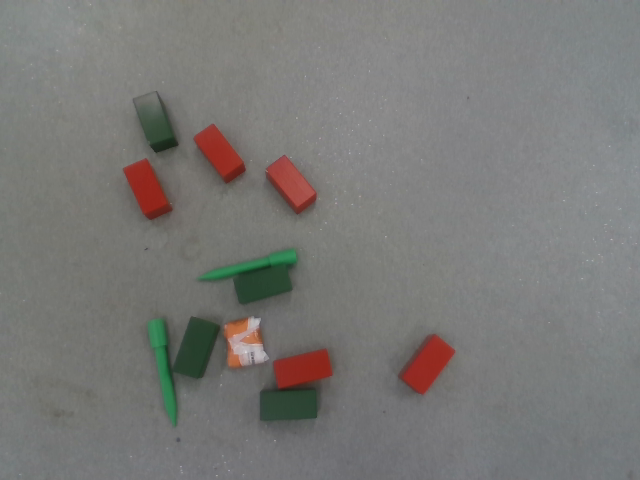Probe: (144, 315, 180, 429), (195, 247, 298, 282)
